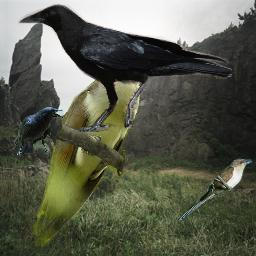Crow: (18, 2, 232, 132), (12, 107, 64, 158)
Cuckoo: (30, 55, 161, 247), (176, 158, 254, 224)
